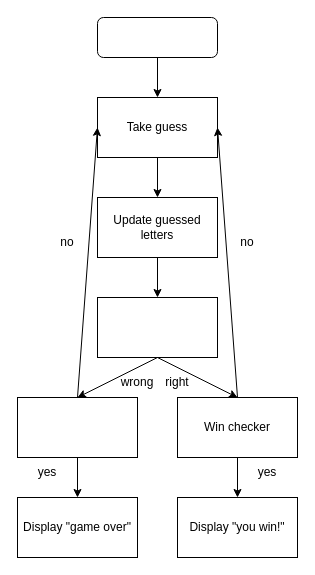
Some shapes in this 315 by 575 pixel diagram are drawn without their labels. Each missing label, with the centre of its shape:
"Compare to word" belongs at [157,327].
"Mistake counter" belongs at [77,427].
"start" belongs at [157,37].
